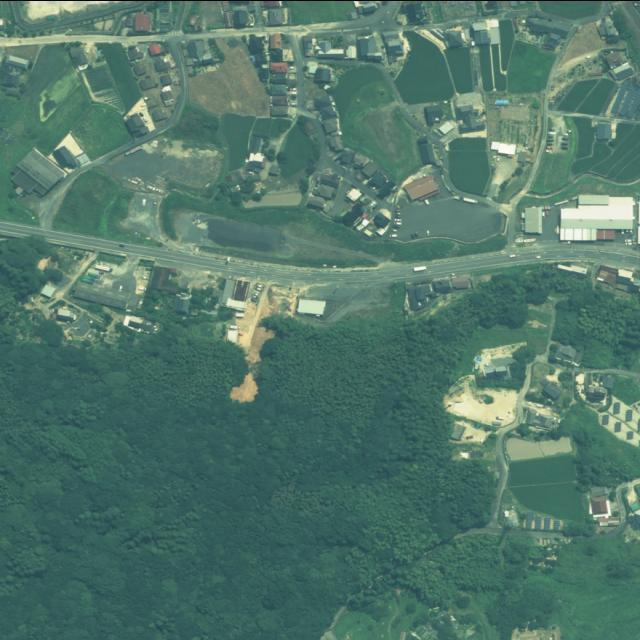landslide: (231, 283, 280, 401), (444, 374, 518, 426)
